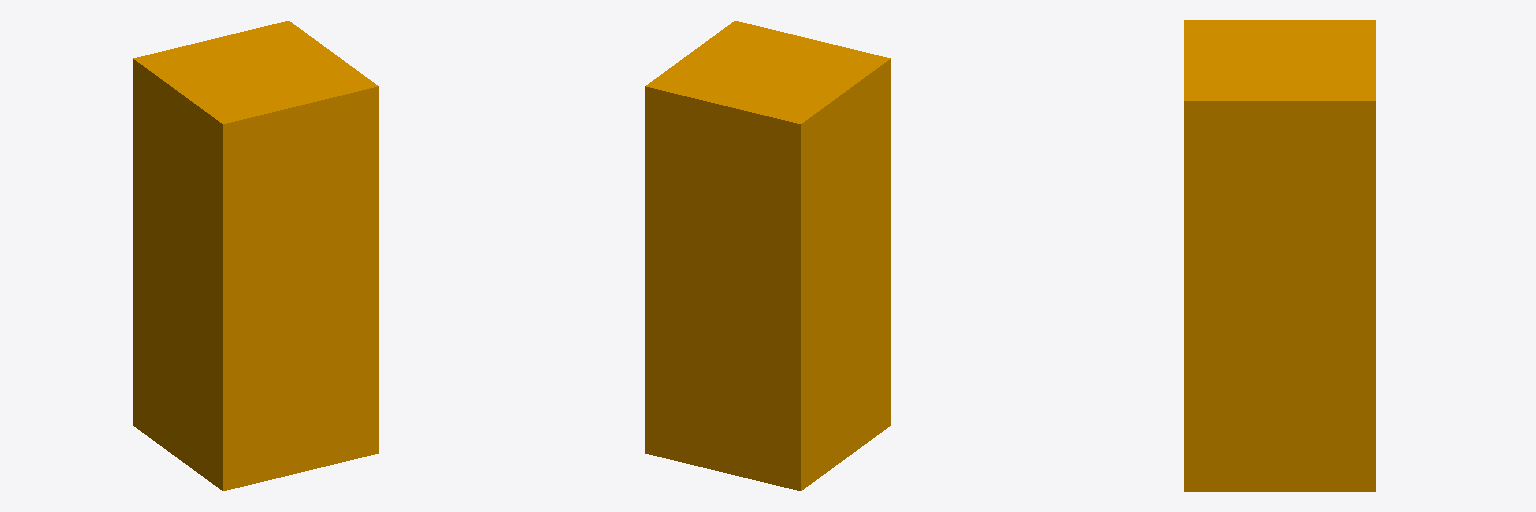
The robot description file, URDF, robot "boxA":
<?xml version="1.0"?>
<robot name="boxA">
  <material name="Wood">
    <color rgba="0.827 0.675 0.463 1.0"/>
  </material>
  <material name="Color">
    <color rgba="0.631, 0.125, 0.125, 1.0"/>
  </material>
  <material name="Metal">
    <color rgba="0.718, 0.753, 0.749, 1.0"/>
  </material>
  <link name="base_link">
     <inertial>
      <mass value="0.5" />
      <!-- center of mass (com) is defined w.r.t. link local coordinate system -->
      <origin xyz="0 0 0" />
      <inertia  ixx="0.00053333333" ixy="0.0"  ixz="0.0"  iyy="0.00161666666"  iyz="0.0"  izz="0.00161666666" />
    </inertial>
    <visual>
      <origin xyz="0 0 0" rpy="0 0 0" />
      <geometry>
        <box size="0.08 0.08 0.18" />
      </geometry>
      <material name="Color"/>
    </visual>
    <collision>
      <origin xyz="0 0 0" rpy="0 0 0" />
      <geometry>
        <box size="0.08 0.08 0.18" />
      </geometry>
    </collision>
    <contact>
      <restitution value="0.7"/>
      <lateral_friction value="0.5"/>
      <rolling_friction value="0.1"/>
      <spinning_friction value="9.119138030817657e-08"/>
    </contact>
  </link>
</robot>

--- What the picture shows (computed from the rendered views, not written in the file) ---
The picture shows the robot from 3 angles, left to right: view 1: azimuth 30°, elevation 25°; view 2: azimuth 150°, elevation 25°; view 3: azimuth 270°, elevation 25°; orthographic projection.
Robot: boxA — 1 links, 0 joints (none); root link base_link; default pose: all joints at 0.
Links seen in each view (by area): view 1: base_link; view 2: base_link; view 3: base_link.
Link boxes in pixels (box(x1,y1,x2,y2)): base_link: box(133, 21, 378, 490); base_link: box(645, 21, 890, 490); base_link: box(1184, 20, 1375, 491).
Size in the robot's own frame: 0.08 by 0.08 by 0.18 metres.
Geometry: primitives only (box / cylinder / sphere), no mesh files.
